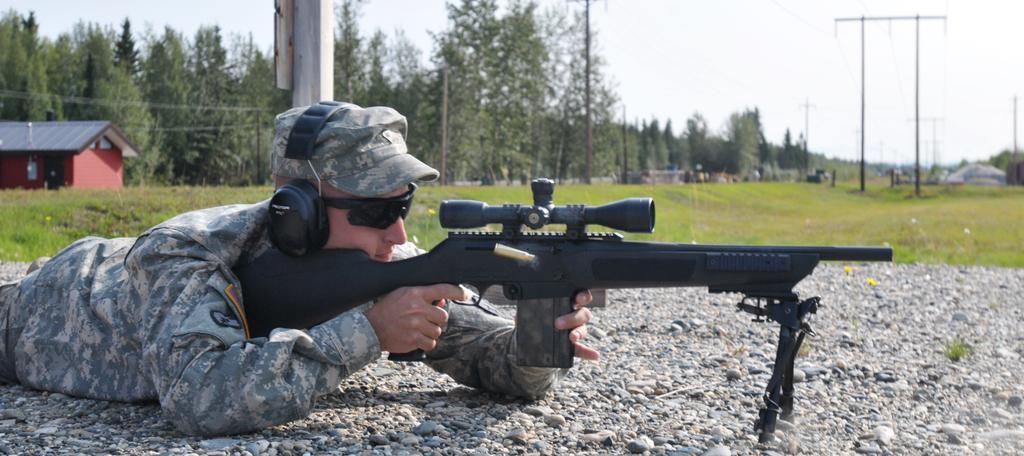Rifle: (239, 179, 892, 424)
